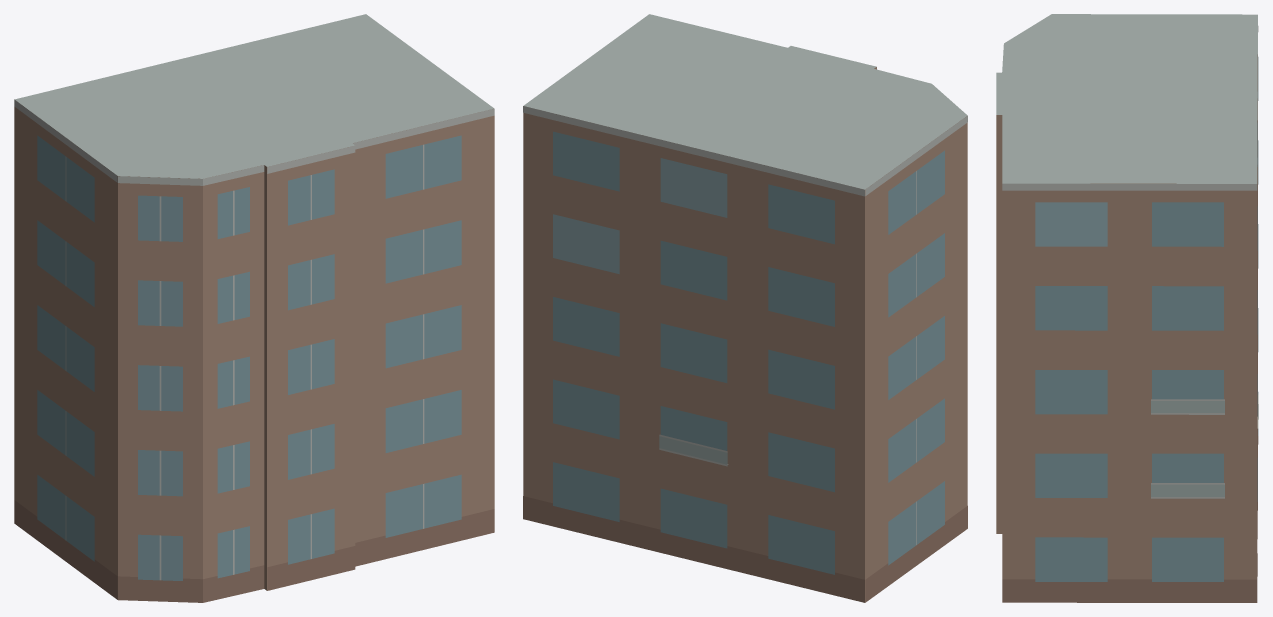
File: survey-upis-33030471.glb
3 renders of one model, left to right at view 1: azimuth 30°, elevation 25°; view 2: azimuth 150°, elevation 25°; view 3: azimuth 270°, elevation 25°, orthographic. The views are drawn at different scales.
Parts seen in each view (by area): view 1: survey-upis-33030471.tmp; view 2: survey-upis-33030471.tmp; view 3: survey-upis-33030471.tmp.
Boxes of the visible parts, left/top/right/bottom form: survey-upis-33030471.tmp: left=14, top=14, right=494, bottom=602; survey-upis-33030471.tmp: left=523, top=14, right=967, bottom=602; survey-upis-33030471.tmp: left=996, top=14, right=1258, bottom=602.
Bounding box in the file's own units: 12.82 × 14.7 × 8.36.
